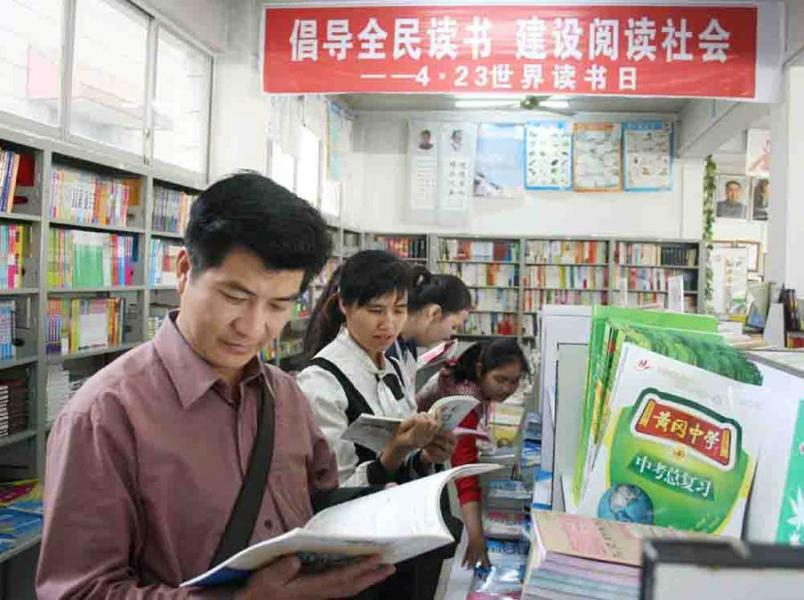person: (35, 173, 396, 600)
